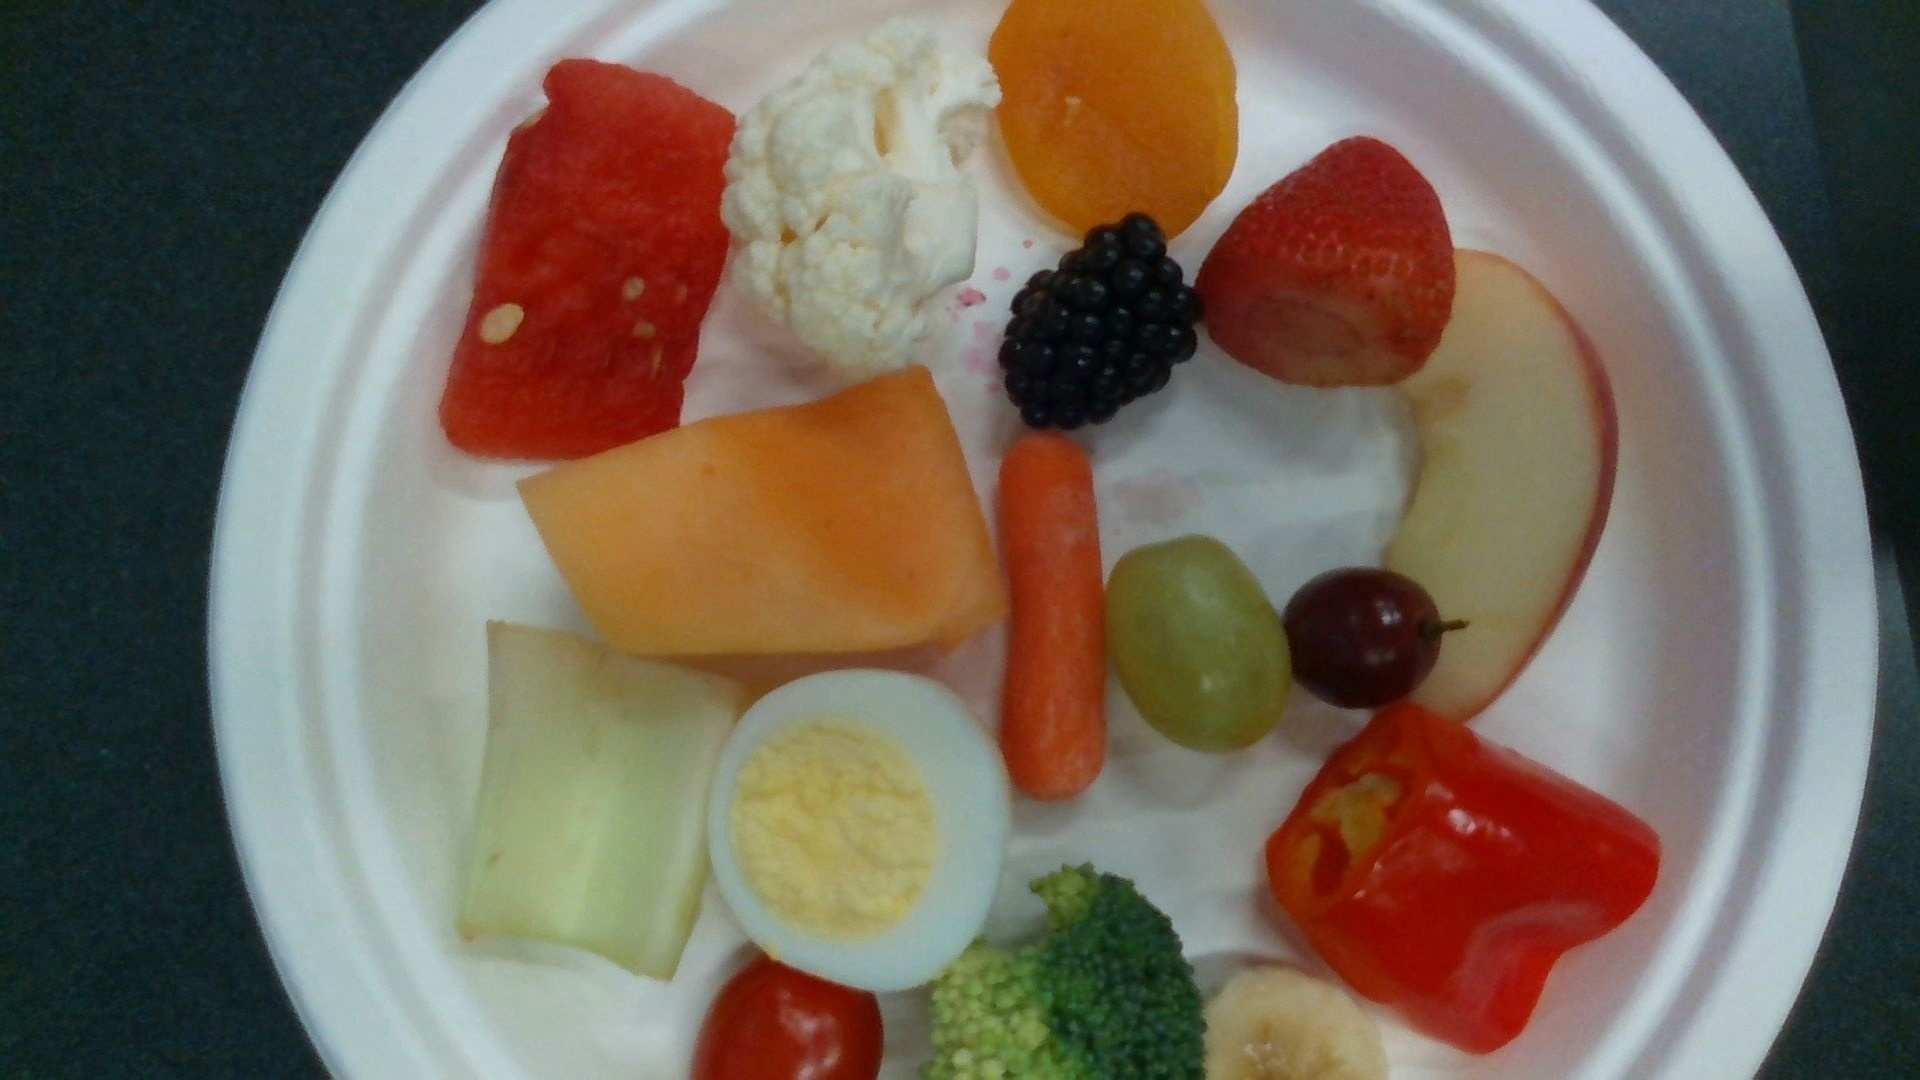apple: (1385, 251, 1619, 717)
apricot: (989, 1, 1236, 235)
banana: (1200, 965, 1389, 1080)
bell_pepper: (1267, 705, 1659, 1050)
blackberry: (1004, 216, 1197, 426)
broccoli: (924, 865, 1205, 1080)
carrot: (1002, 435, 1105, 800)
cauliflower: (520, 368, 1005, 655), (724, 18, 1002, 371)
celery: (459, 621, 742, 980)
cherry_tomato: (694, 956, 882, 1080)
egg: (709, 666, 1004, 990)
grape_green: (1104, 538, 1288, 748)
grape_purple: (1284, 570, 1443, 708)
melon: (442, 61, 735, 456)
strawberry: (1199, 140, 1455, 388)
